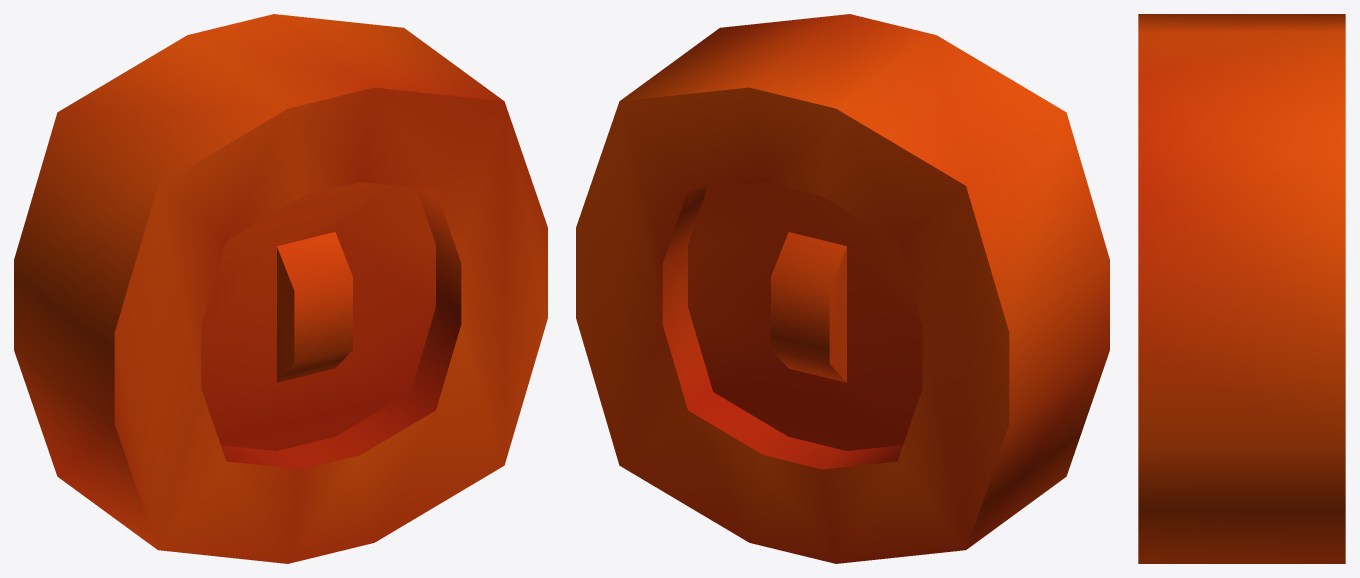
Rendered from coin.obj.
3 views of the same model, side by side, from view 1: azimuth 30°, elevation 25°; view 2: azimuth 150°, elevation 25°; view 3: azimuth 270°, elevation 25° (orthographic). The views are drawn at different scales.
Parts seen in each view (by area): view 1: coin; view 2: coin; view 3: coin.
Boxes of the visible parts, box(x1,y1,x2,y2) form: coin: box(14, 14, 547, 563); coin: box(576, 14, 1109, 563); coin: box(1138, 14, 1345, 563).
Size of the model in its own units: 0.415 by 0.4167 by 0.1667.
